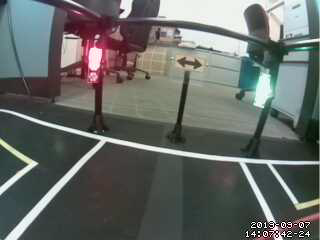Left_Right_sign: (172, 53, 212, 74)
Traffic_light_green: (253, 66, 277, 108)
Traffic_light_red: (84, 45, 104, 82)
